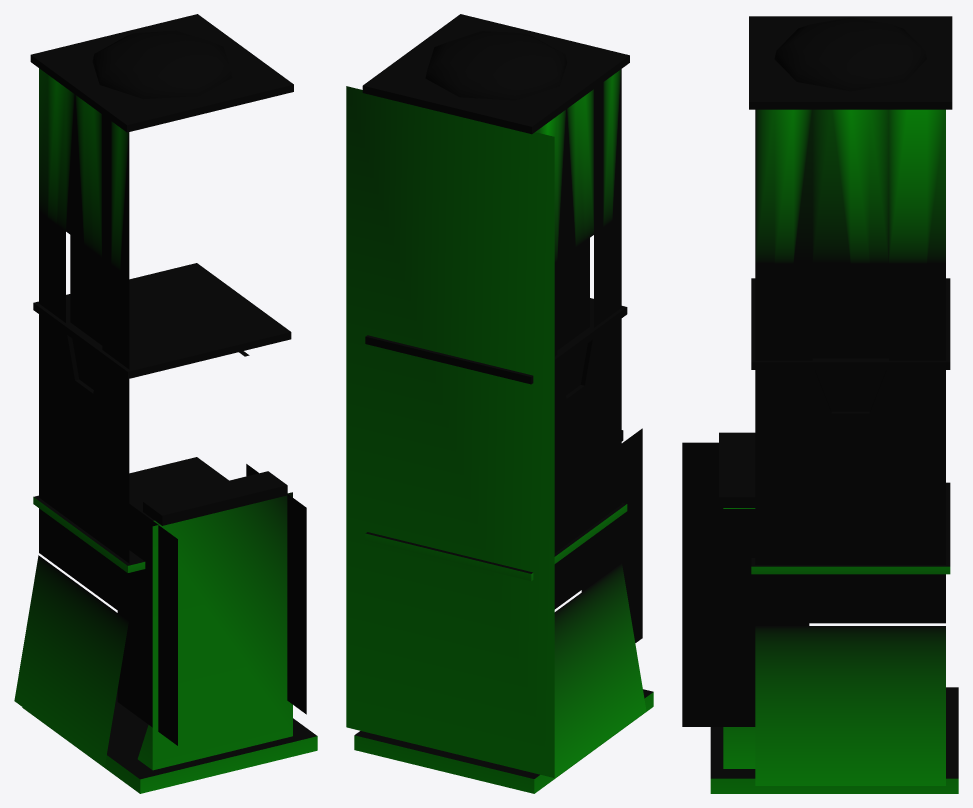
Rendered from s_heavypost.glb.
3 renders of one model, left to right at view 1: azimuth 30°, elevation 25°; view 2: azimuth 150°, elevation 25°; view 3: azimuth 270°, elevation 25°, orthographic. The views are drawn at different scales.
Parts seen in each view (by area): view 1: lod0; view 2: lod0; view 3: lod0.
Part boxes in pixels (box(x1,y1,x2,y2)): lod0: box(14, 14, 317, 793); lod0: box(346, 14, 653, 793); lod0: box(682, 16, 958, 793).
Size of what is drawn, in the model's own units: 5.91 by 18.66 by 6.53.
